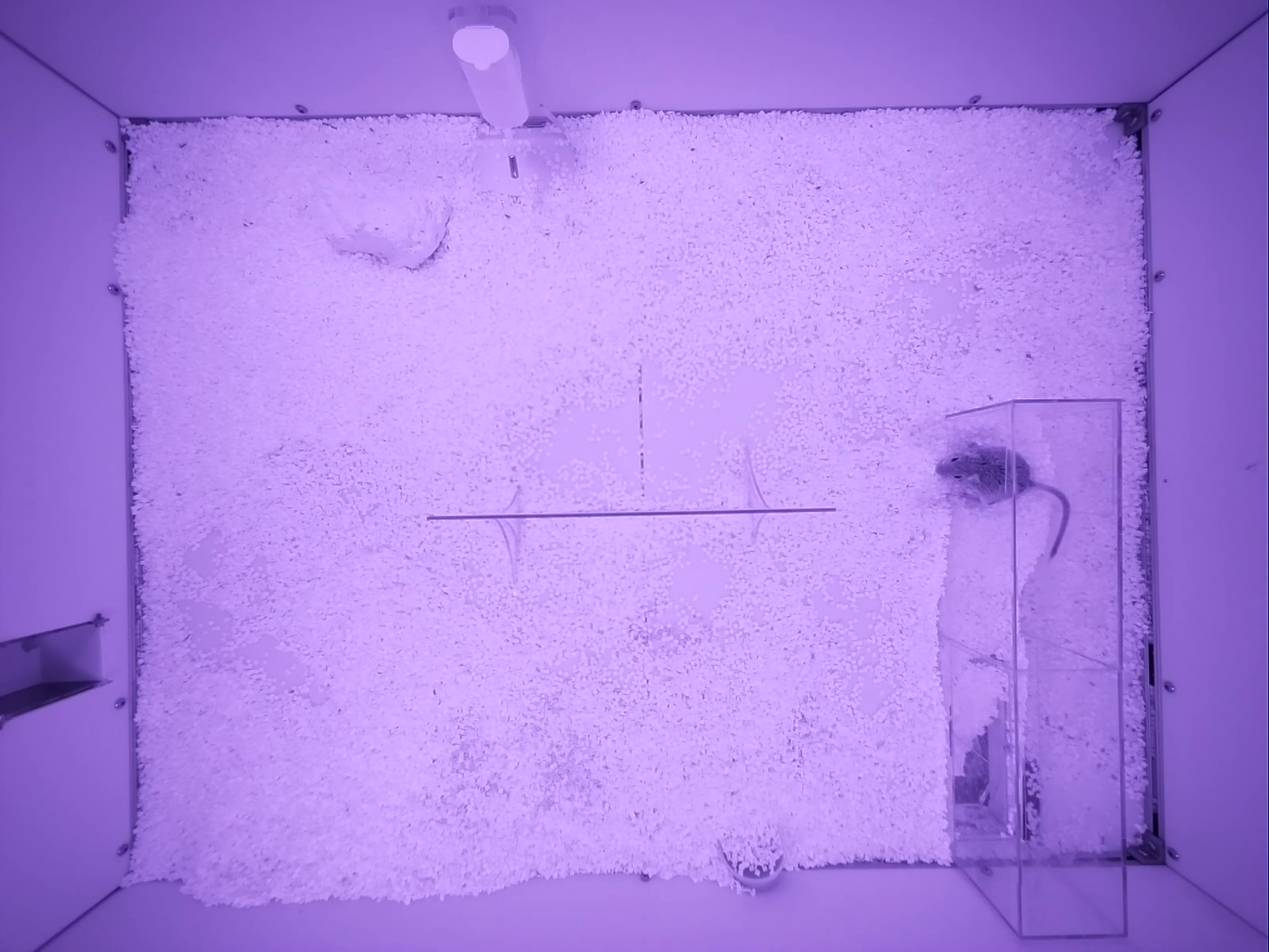adult_back: (936, 443, 1069, 556)
